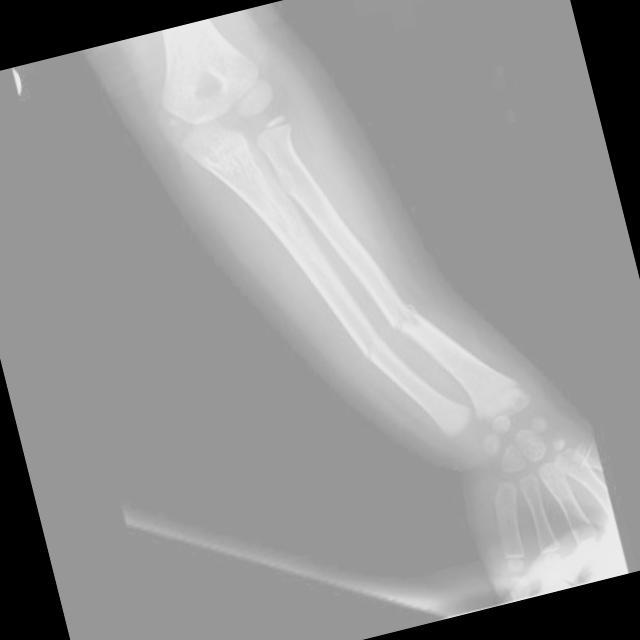GreenStick Fracture: (380, 293, 428, 339), (353, 325, 388, 362)
